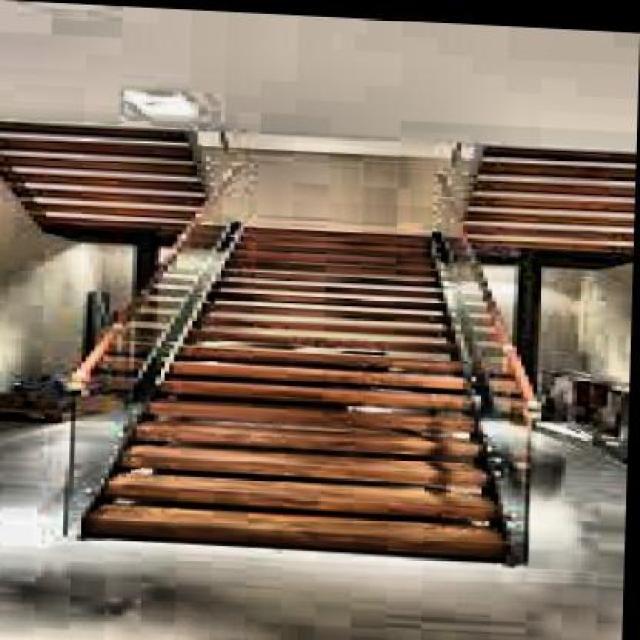stair: (122, 214, 510, 569)
